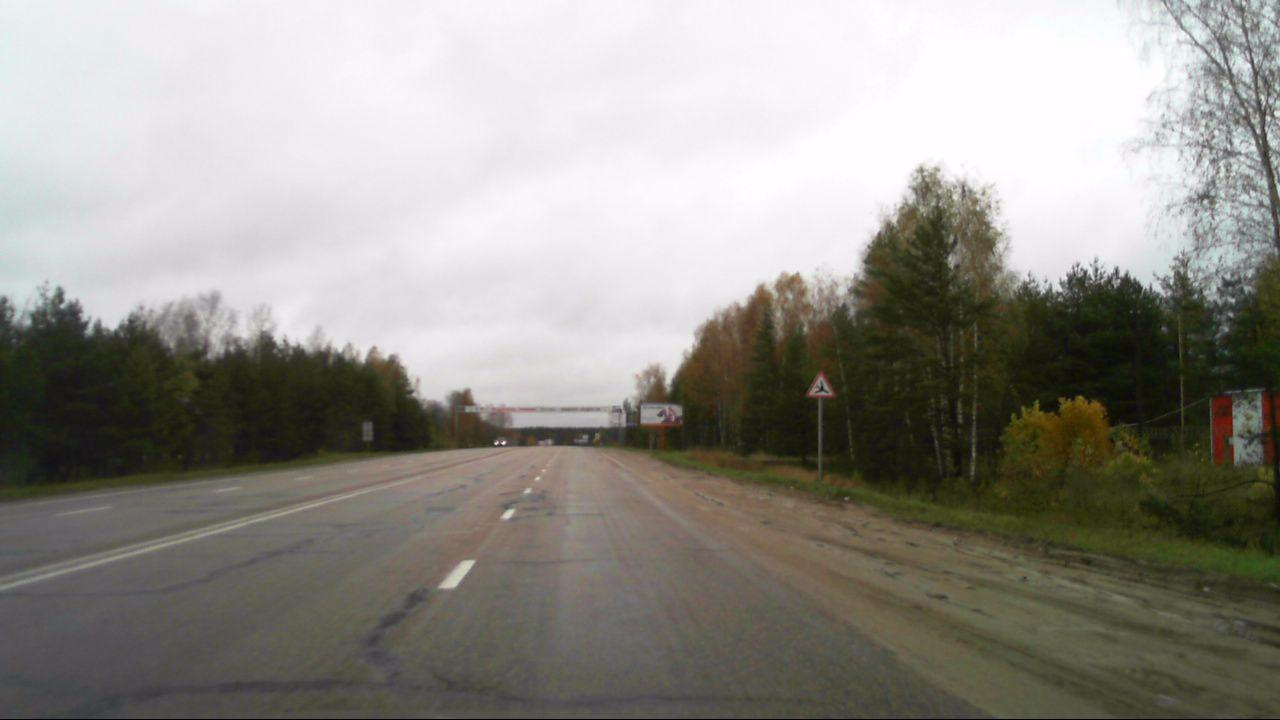1_30: (803, 371, 836, 400)
